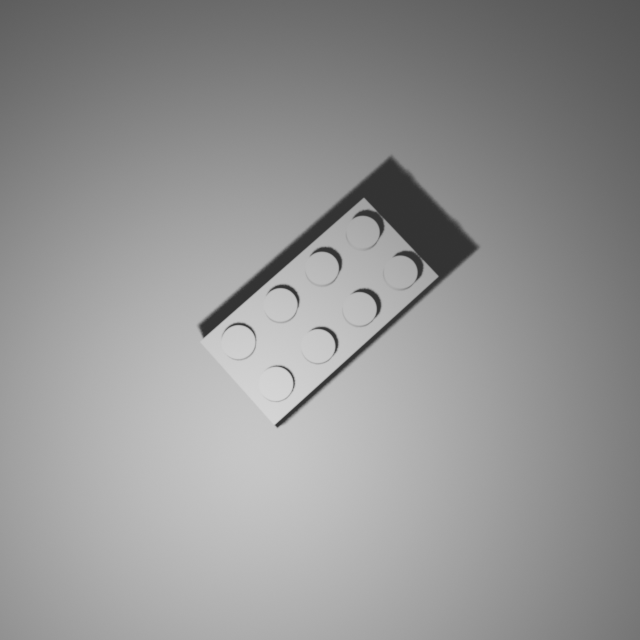lego_2x4: (199, 195, 440, 428)
